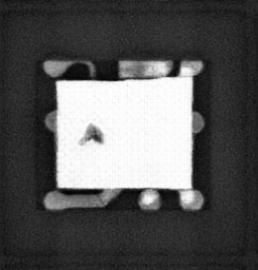DIE_INK: (76, 122, 106, 148)
